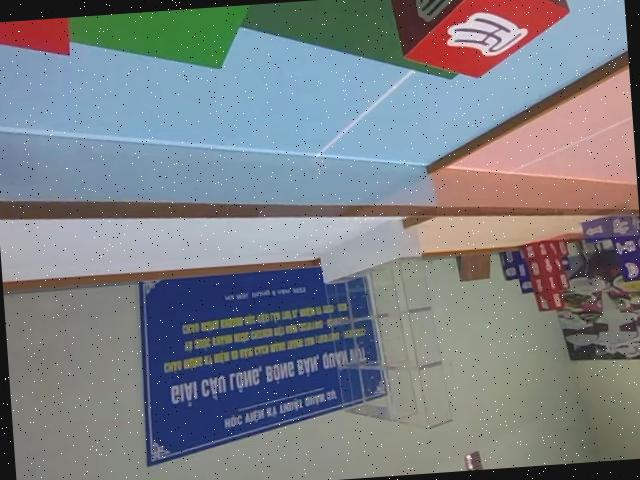R2 Fake: (384, 0, 573, 85)
